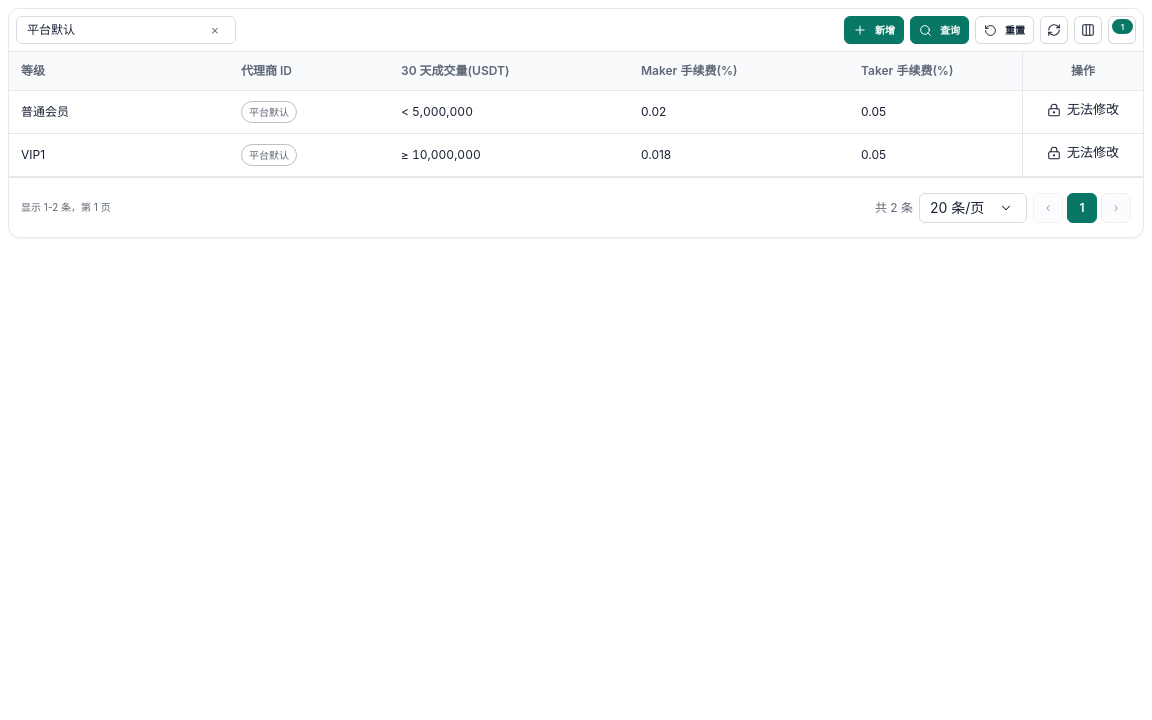
Test: MmHandlingFeeConfig › creates a fee tier through the shared form dialog and reloads
The width and height of the screenshot is (1152, 720).
Click the button "新增" at [874, 30], box [844,16,904,44]
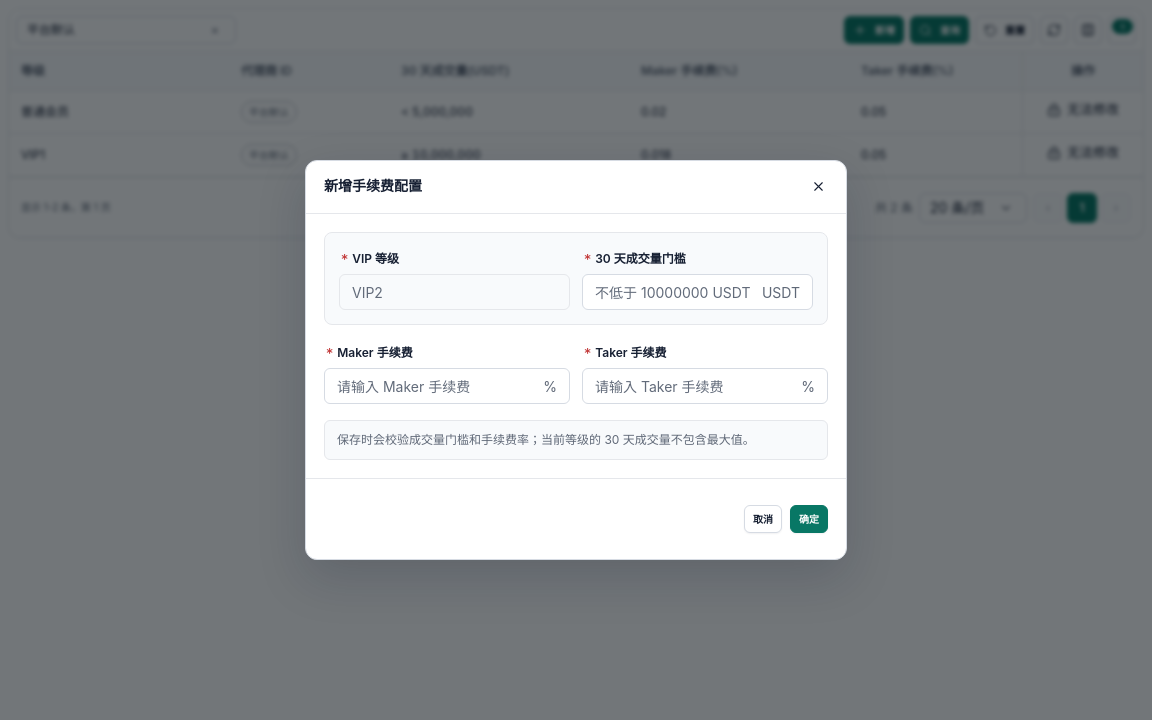
Expected: the dialog shows "新增手续费配置", [324,177,422,194]
Expected: the field labelled "VIP 等级" holds "VIP2", [340,275,569,309]
Type "20000000" into the field labelled "30 天成交量门槛" at [672, 292], box [583,275,762,309]
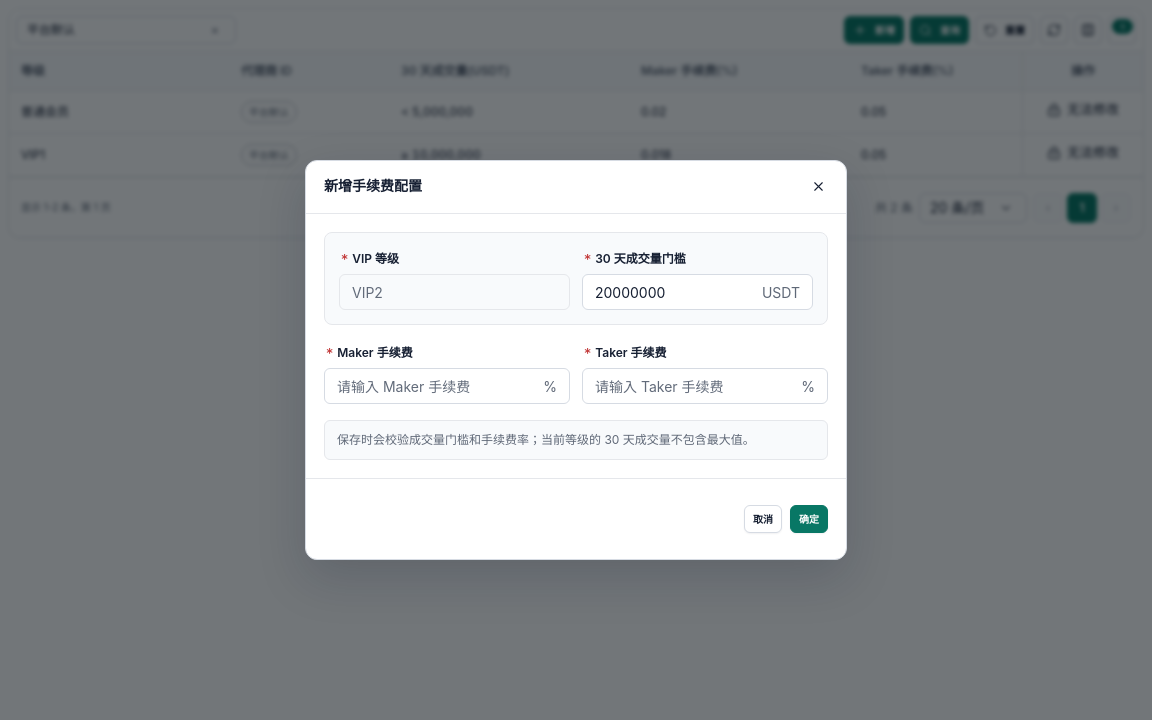
Type "0.015" into the field labelled "Maker 手续费" at [434, 386], box [325,369,543,403]
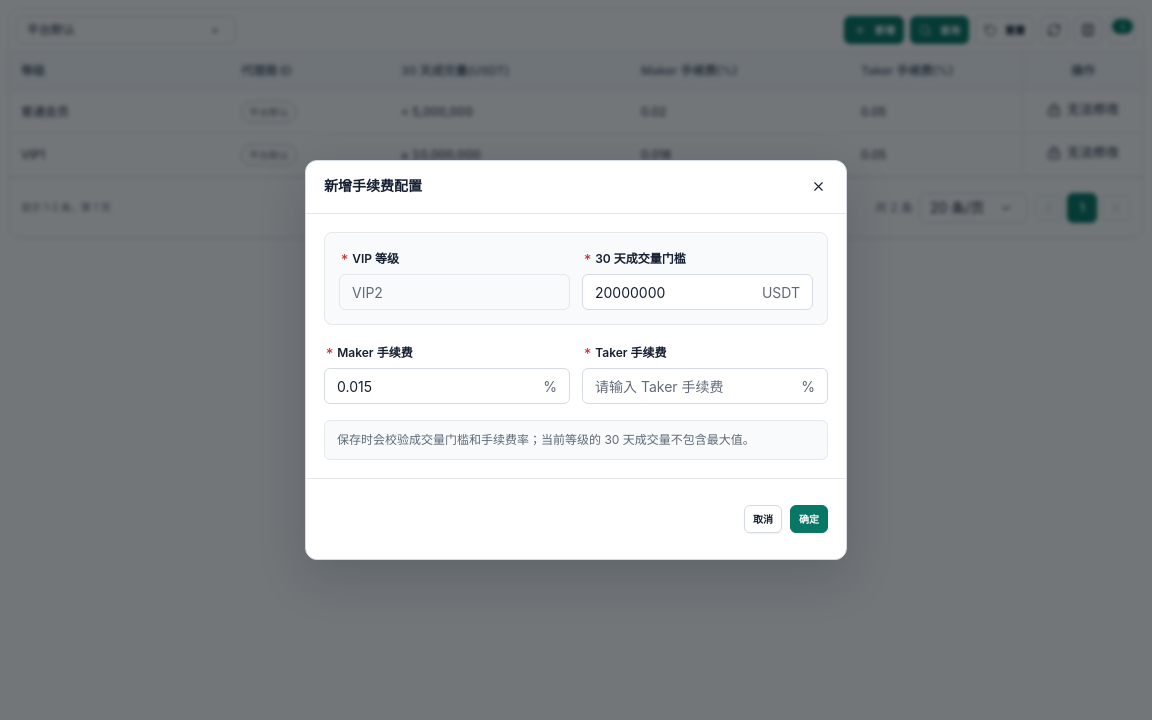
Type "0.04" into the field labelled "Taker 手续费" at [692, 386], box [583,369,801,403]
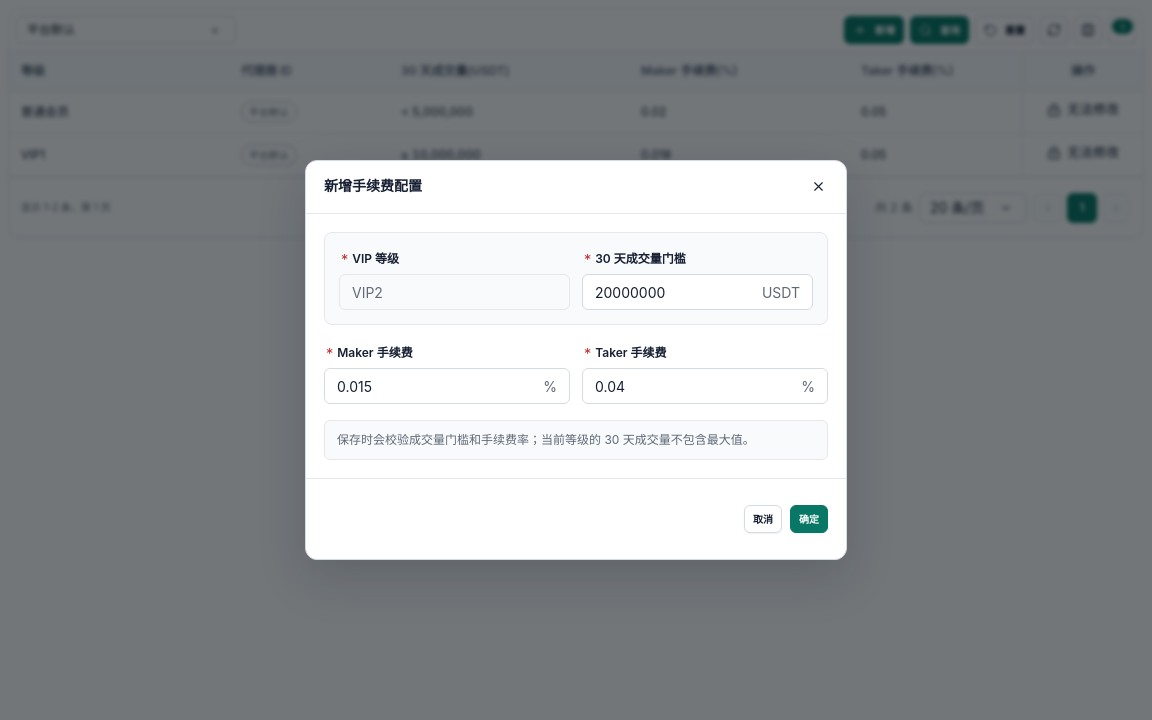
Click the button "确定" at [809, 519], box [790,505,828,533]
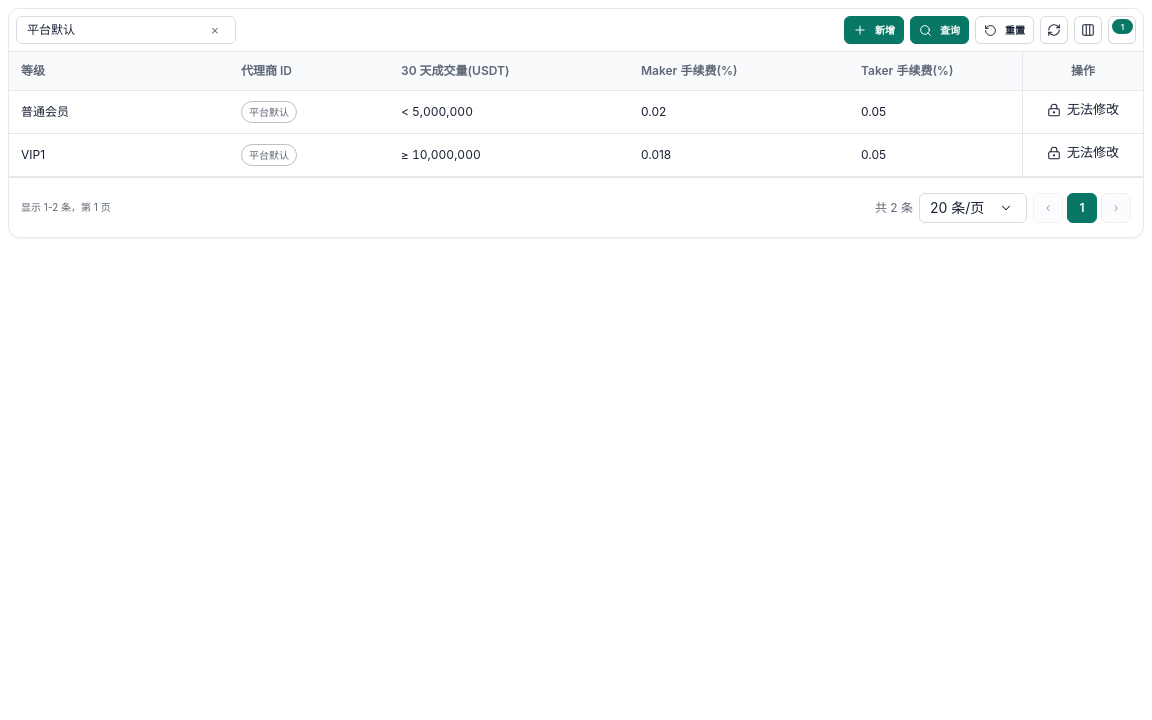
Expected: the dialog is gone
